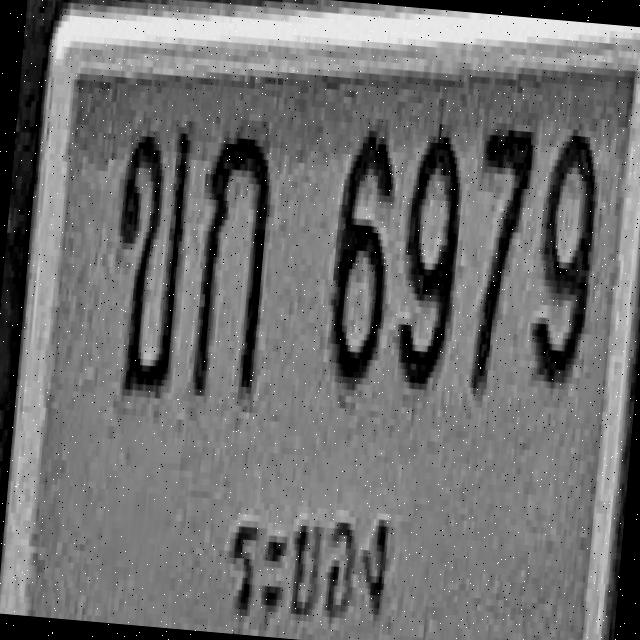10GorGai: (188, 123, 276, 400)
11KhorKhai: (104, 119, 194, 396)
6: (323, 120, 398, 388)
7: (460, 118, 536, 394)
9: (393, 119, 467, 388), (528, 121, 602, 384)
Rayong: (217, 476, 403, 640)
